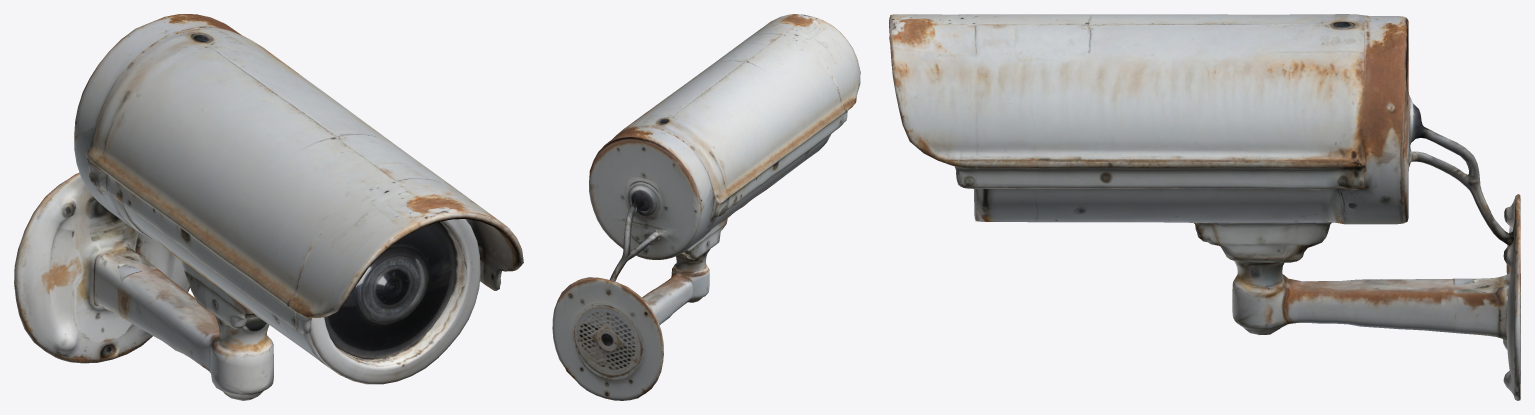
File: white_rusty_industria_0423200052.fbx
3 renders of one model, left to right at view 1: azimuth 30°, elevation 25°; view 2: azimuth 150°, elevation 25°; view 3: azimuth 270°, elevation 25°, orthographic. The views are drawn at different scales.
Visible parts, largest first — view 1: Mesh_0; view 2: Mesh_0; view 3: Mesh_0.
Part boxes in pixels (left/top/right/bottom): Mesh_0: left=14, top=14, right=523, bottom=400; Mesh_0: left=552, top=14, right=860, bottom=400; Mesh_0: left=889, top=14, right=1520, bottom=400.
Size of the model in its own units: 72.72 by 128 by 200.
1 material, 1 textured.
